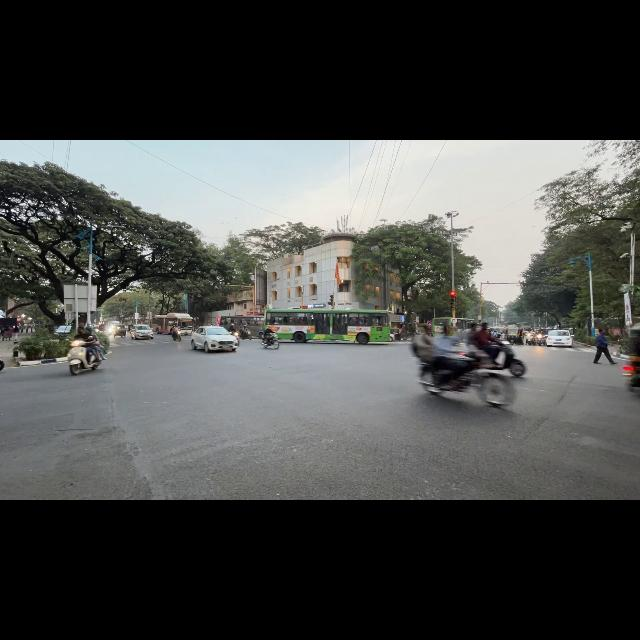bus: (265, 309, 389, 343), (218, 316, 263, 336), (152, 313, 193, 334), (432, 317, 476, 335)
car: (191, 326, 238, 352), (546, 330, 572, 347), (130, 325, 153, 339), (54, 326, 71, 337), (112, 325, 127, 337)
motorcycle: (419, 353, 515, 406), (464, 341, 526, 376), (67, 340, 101, 375), (499, 342, 526, 376), (622, 356, 639, 391), (261, 333, 279, 349), (533, 334, 546, 345), (239, 329, 251, 339), (232, 331, 240, 345), (171, 330, 181, 341), (0, 359, 4, 370)
